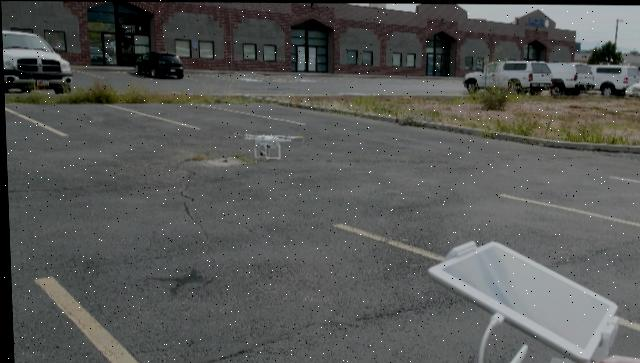drone: (233, 131, 299, 160)
